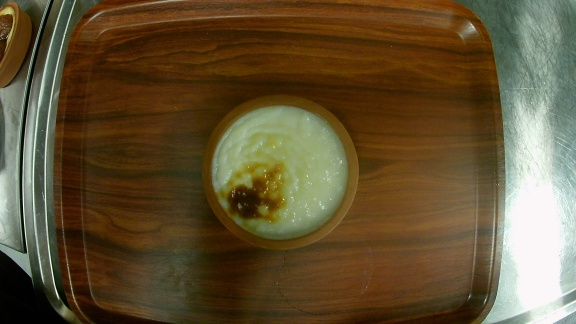sutlac: (202, 94, 360, 250)
